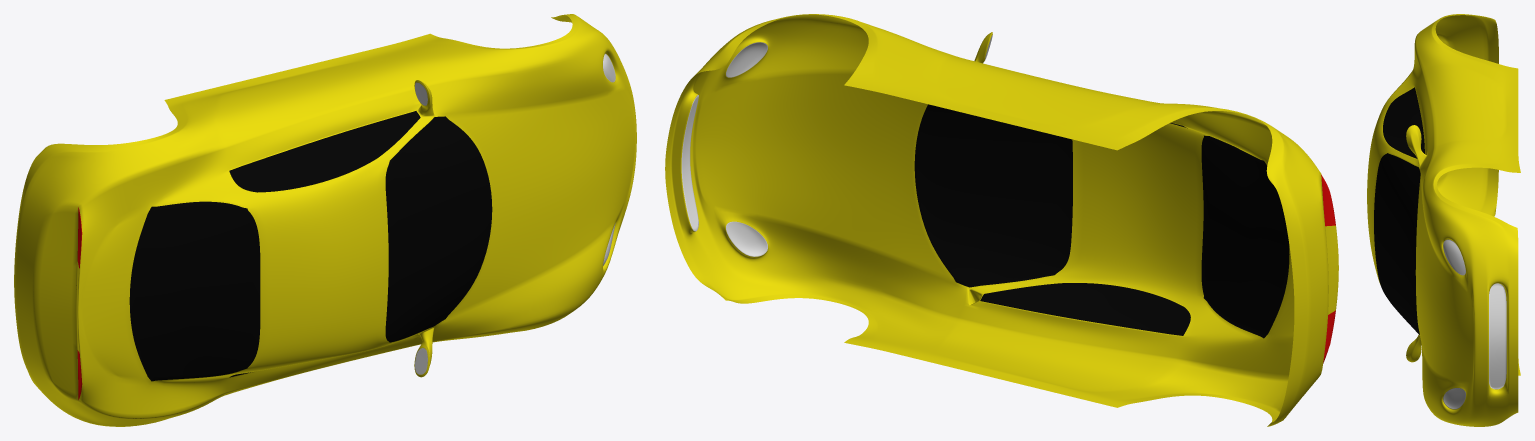
The model's file is SportsCarChassis.glb.
3 views of the same model, side by side, from view 1: azimuth 30°, elevation 25°; view 2: azimuth 150°, elevation 25°; view 3: azimuth 270°, elevation 25° (orthographic). The views are drawn at different scales.
Parts seen in each view (by area): view 1: Cube; view 2: Cube; view 3: Cube.
Boxes of the visible parts, x1,y1,x2,y2 form: Cube: (14, 14, 636, 426); Cube: (665, 14, 1338, 426); Cube: (1367, 14, 1520, 426).
Size of the model in its own units: 3.34 by 1.53 by 0.9023.
